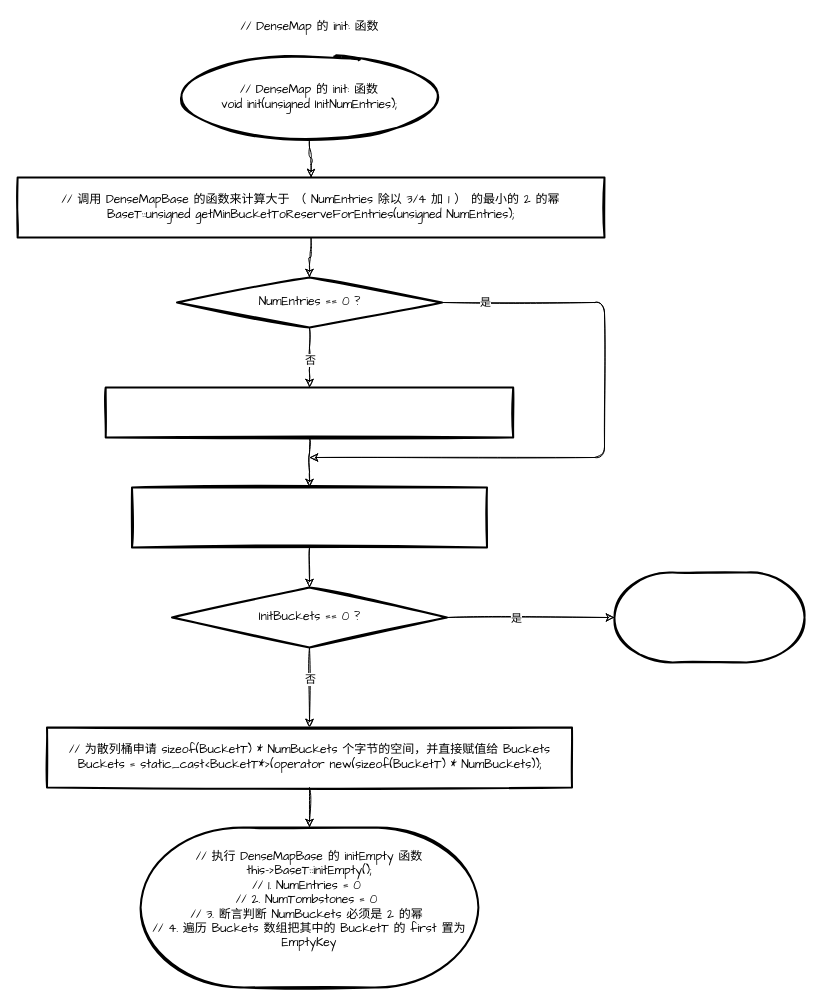
This 823x1005 diagram has some shape labels left out. The centre of each missing label's shape, as x and y in pixels:
"allocateBuckets(InitBuckets)" goes at pixel 309 517.
"Buckets = nullptr; NumEntries = 0; NumTombstones = 0; NumBuckets = 0;" goes at pixel 709 617.
"return NextPowerOf2(NumEntries * 4 / 3 + 1)" goes at pixel 309 412.
